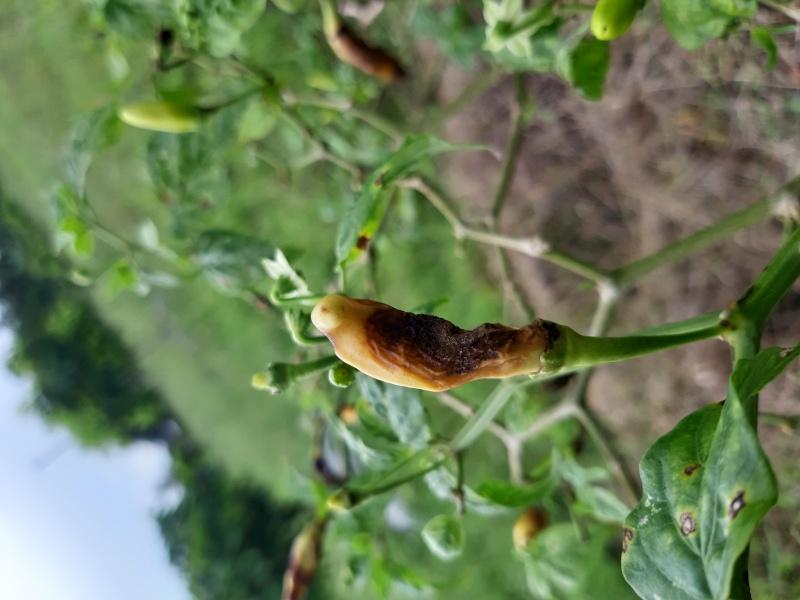antraknosa: (310, 295, 547, 394), (326, 21, 408, 85)
